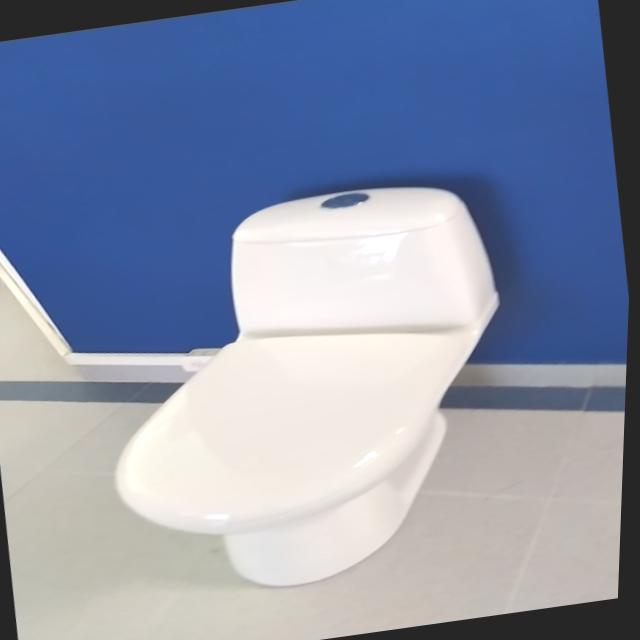toilet: (78, 170, 543, 610)
